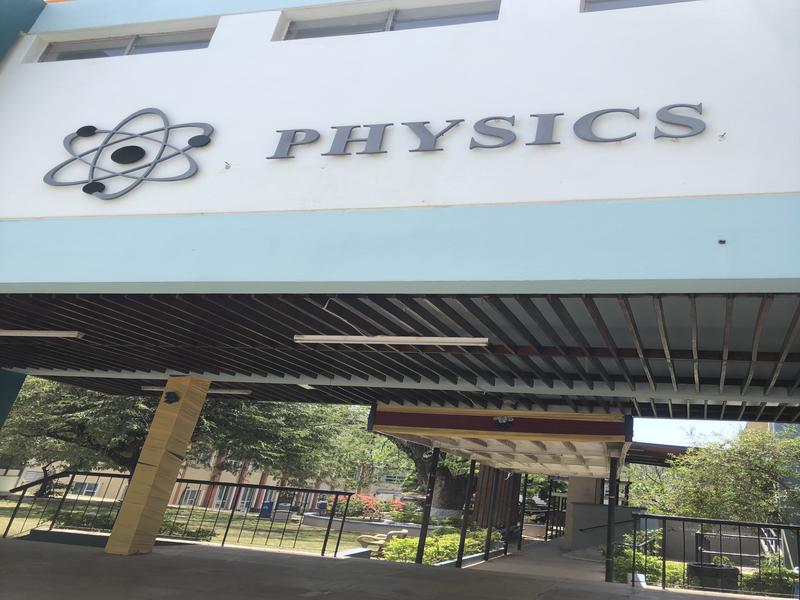18.0053657_-76.7491452_physicssign: (21, 89, 731, 208)
